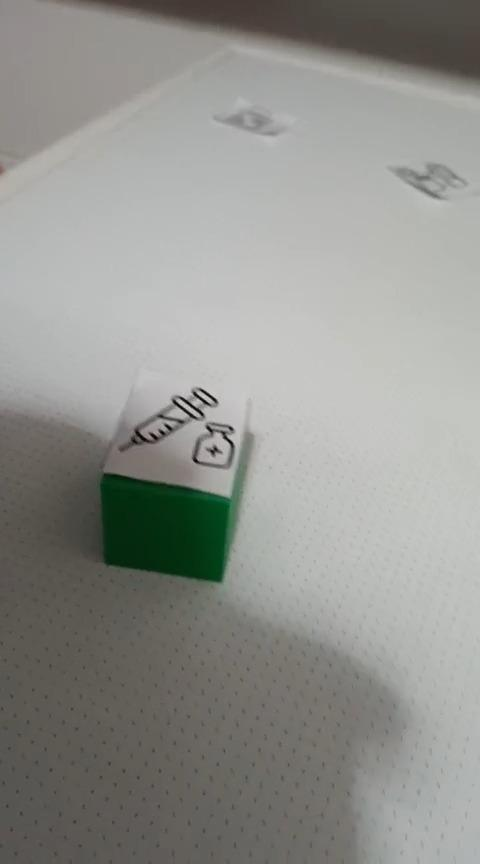antiseptic cream: (97, 363, 252, 583)
